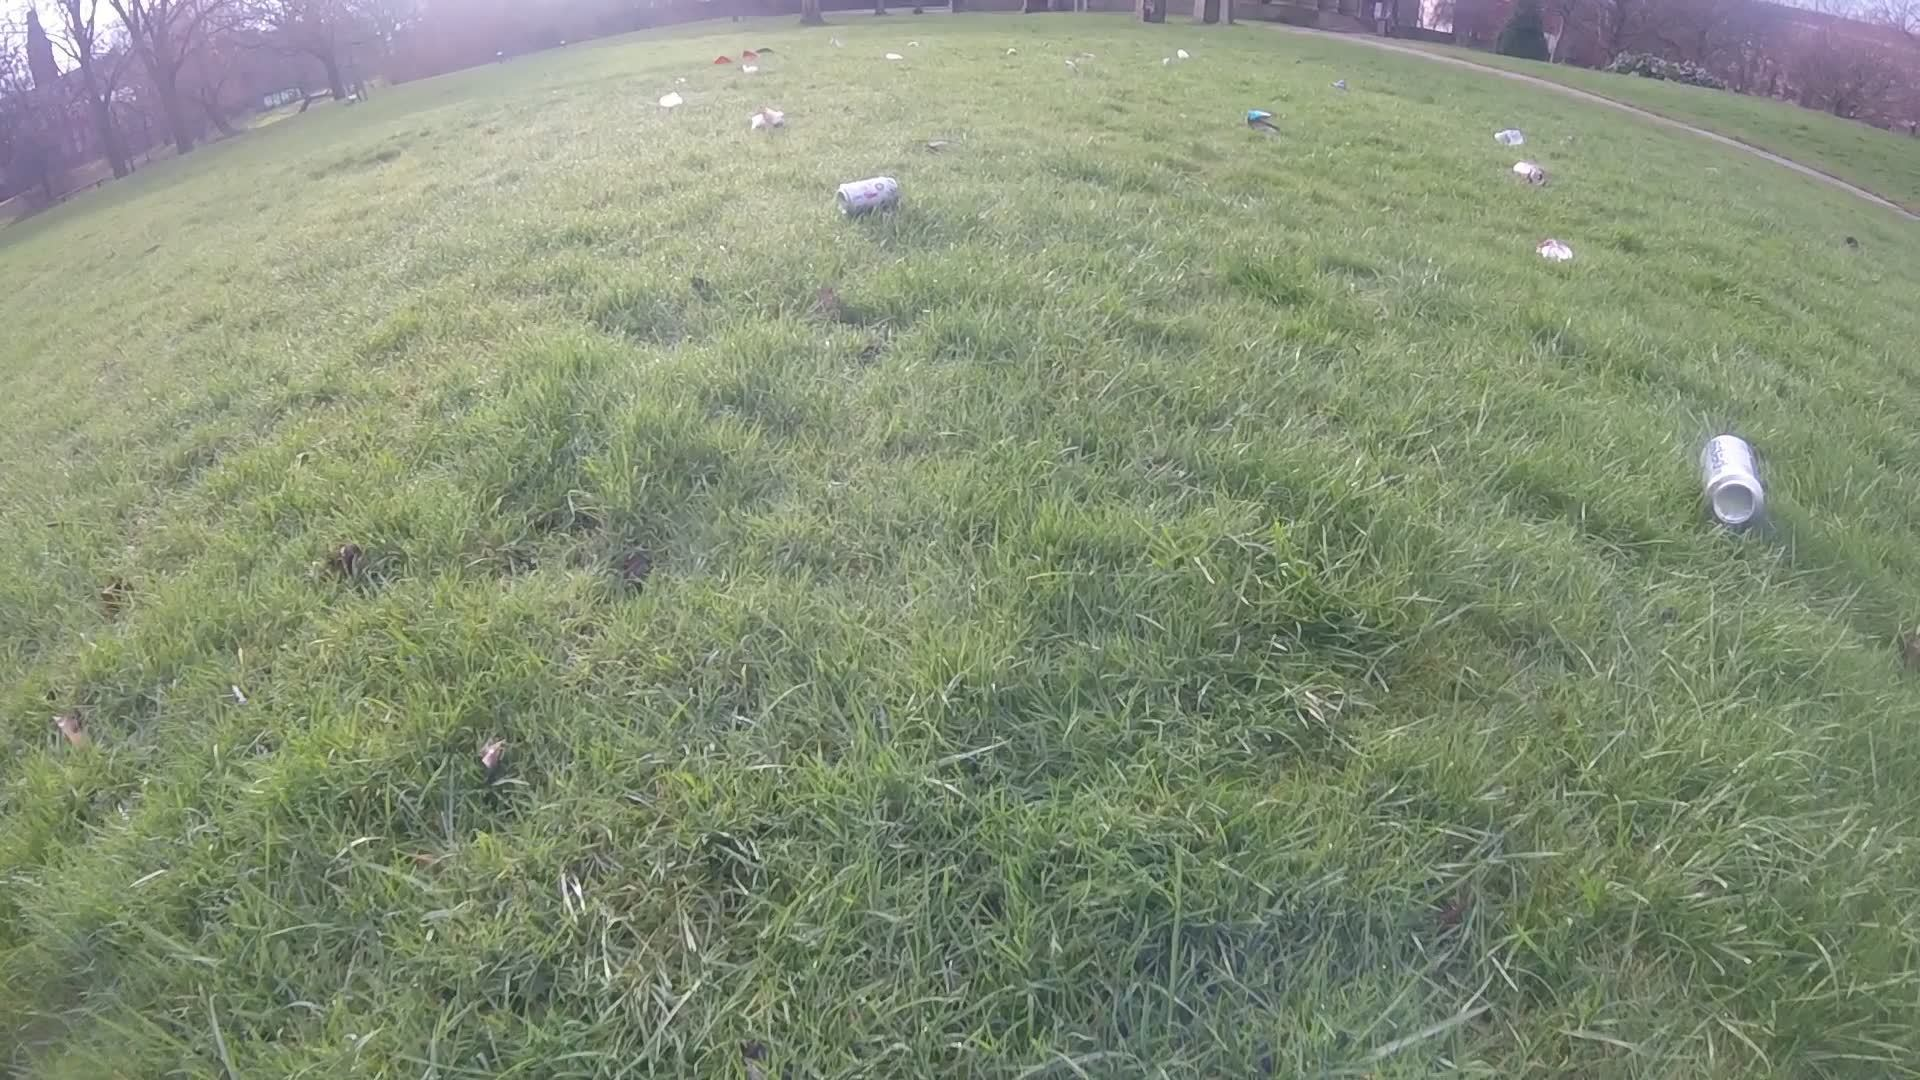litter: (1697, 433, 1767, 527), (833, 173, 899, 222), (1510, 158, 1548, 189), (1247, 108, 1280, 138), (746, 109, 783, 136), (1536, 239, 1575, 260), (1495, 127, 1526, 148), (657, 94, 687, 109), (733, 47, 760, 61), (1327, 78, 1348, 94), (880, 51, 903, 65), (709, 54, 732, 67), (740, 65, 760, 75), (1176, 47, 1191, 59), (1004, 46, 1018, 57), (1062, 59, 1076, 70), (1158, 53, 1170, 65), (825, 36, 837, 47), (752, 47, 775, 53)
